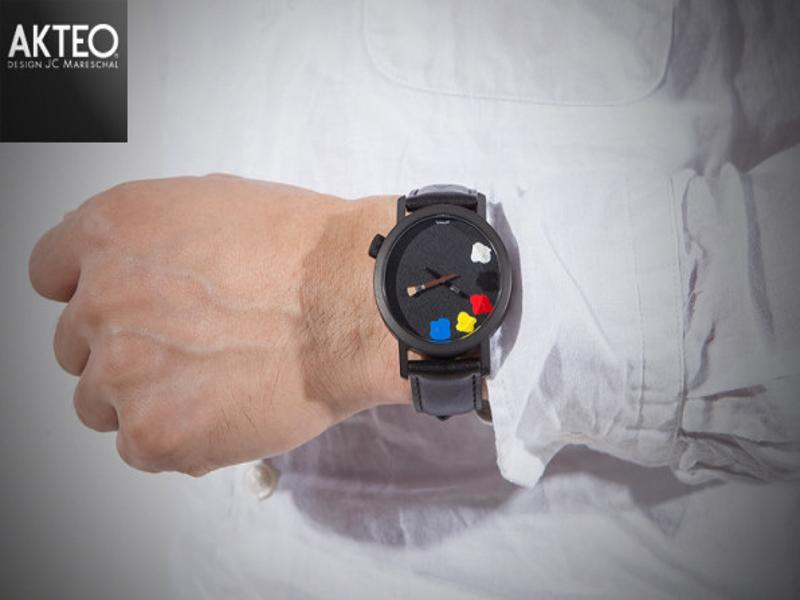watch: (367, 184, 515, 422)
